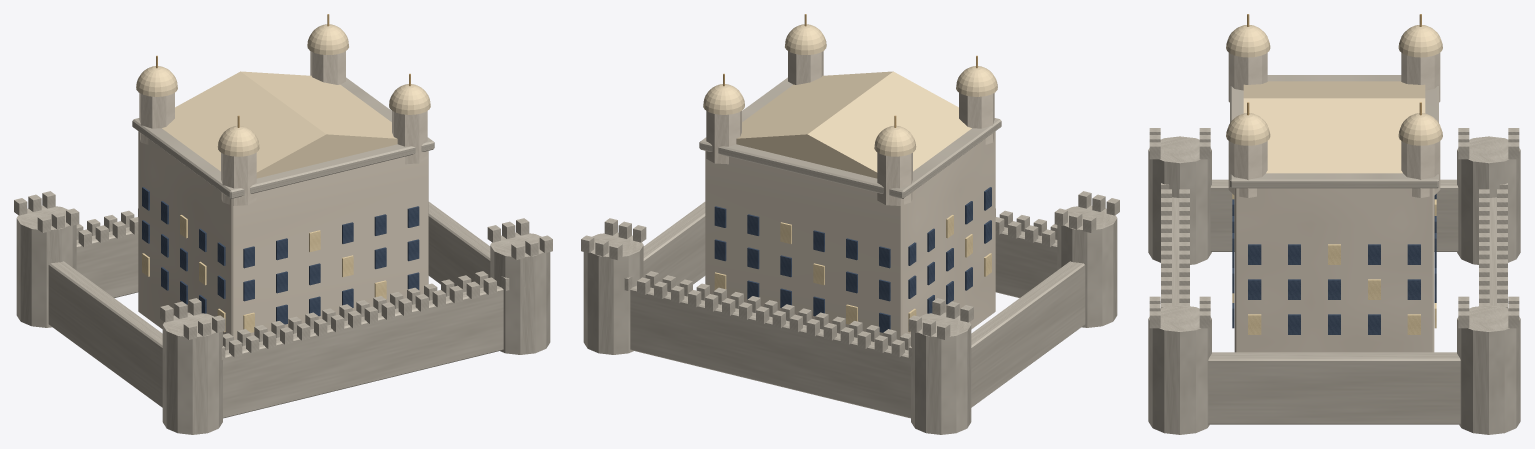
The model's file is tower-of-london.glb.
3 views of the same model, side by side, from view 1: azimuth 30°, elevation 25°; view 2: azimuth 150°, elevation 25°; view 3: azimuth 270°, elevation 25° (orthographic). The views are drawn at different scales.
Parts seen in each view (by area): view 1: tower-of-london; view 2: tower-of-london; view 3: tower-of-london.
Boxes of the visible parts, x1,y1,x2,y2 form: tower-of-london: (14,14,552,434); tower-of-london: (581,14,1119,434); tower-of-london: (1148,14,1520,434).
Size of the model in its own units: 10.2 by 6.77 by 8.2.
1 material, 1 textured.
